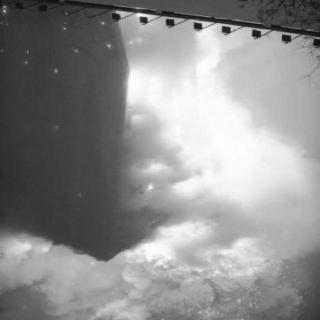Fire: (108, 19, 312, 276), (2, 233, 266, 279)
Smoke: (0, 279, 306, 319)
